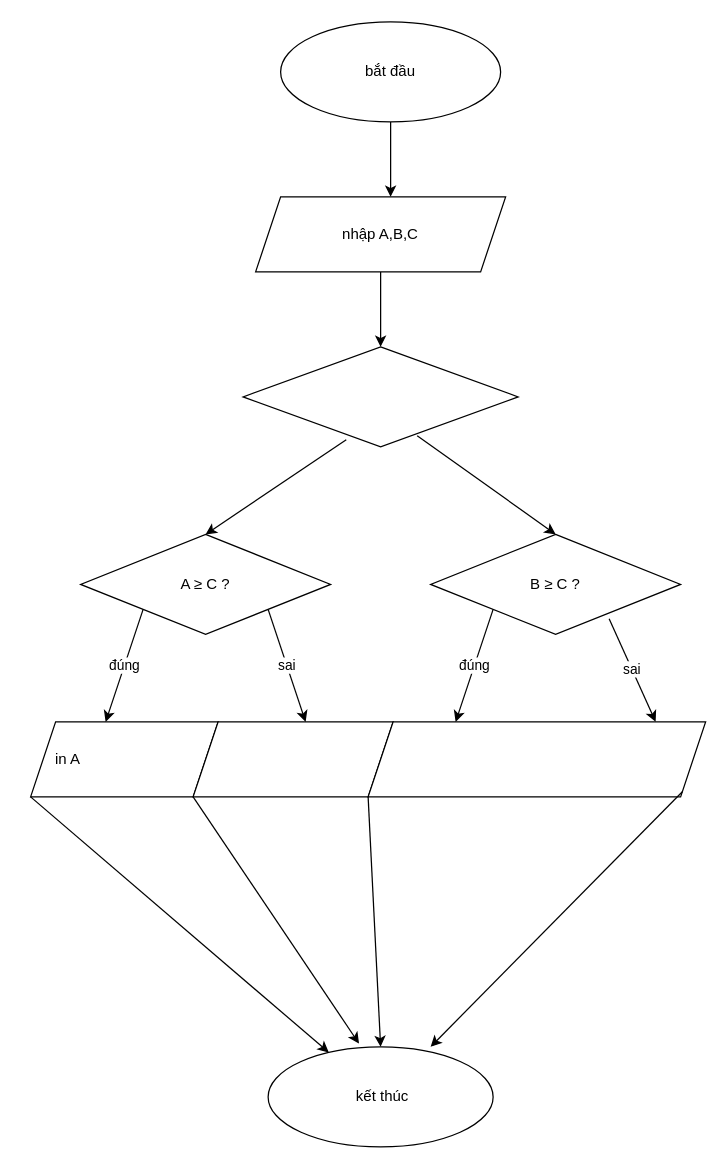
Image size: 728x1169. Some labels were removed from this diagram. The shapes that lost their labels are listed below. From the top down, each one's box as (x1, y1, x2, y2) in pixels, then its label:
(242, 346, 518, 447): A ≥ B ?
(192, 721, 393, 797): inC
(367, 721, 706, 797): inB inC
